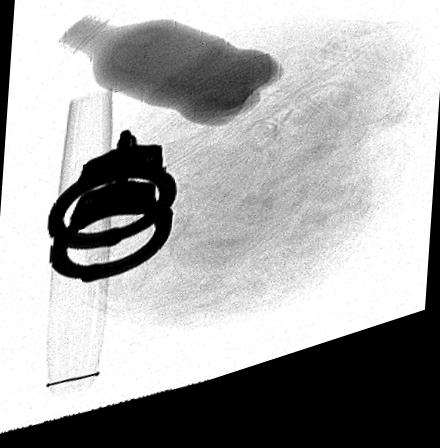HandCuffs: (47, 137, 176, 288)
